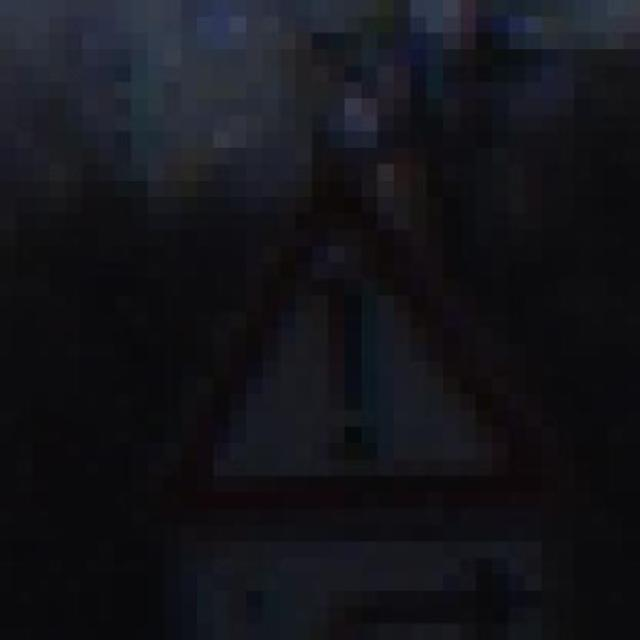Attention Please-: (147, 130, 558, 542)
